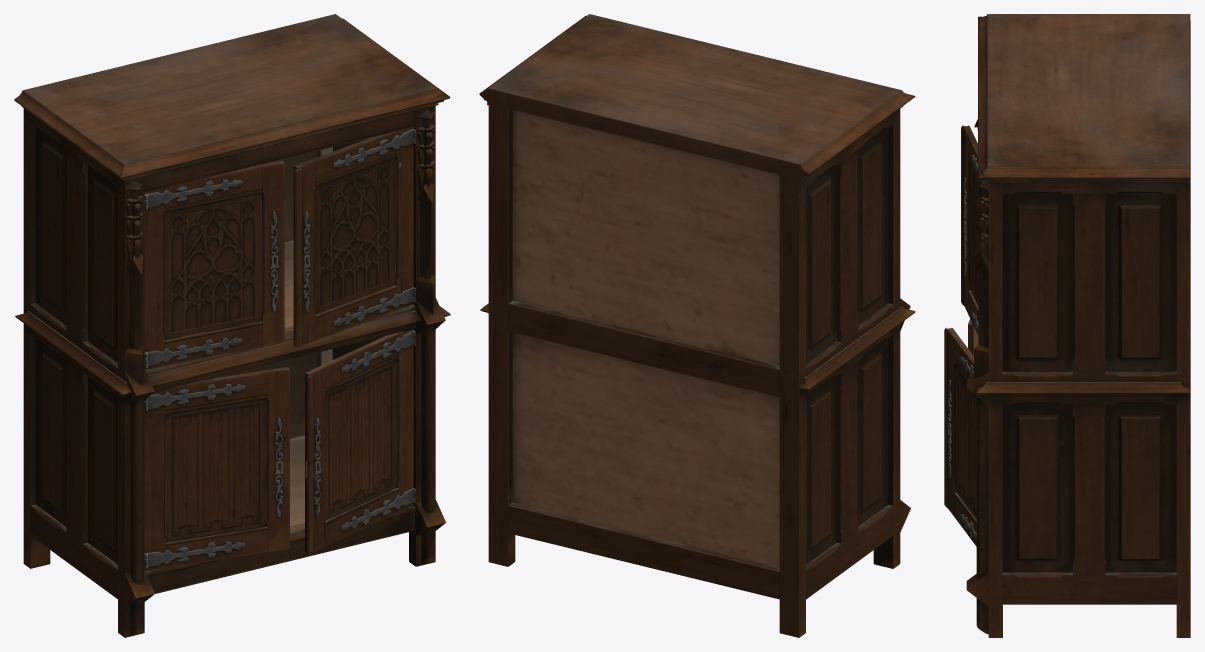
Rendered from gothic-cabinet.glb.
3 renders of one model, left to right at view 1: azimuth 30°, elevation 25°; view 2: azimuth 150°, elevation 25°; view 3: azimuth 270°, elevation 25°, orthographic.
Visible parts, largest first — view 1: GothicCabinet_01_cabinet, GothicCabinet_01_door3, GothicCabinet_01_door1, GothicCabinet_01_door2, GothicCabinet_01_door4; view 2: GothicCabinet_01_cabinet; view 3: GothicCabinet_01_cabinet, GothicCabinet_01_door4, GothicCabinet_01_door2.
Part boxes in pixels (left/top/right/bottom): GothicCabinet_01_cabinet: left=14, top=14, right=450, bottom=637; GothicCabinet_01_door3: left=144, top=367, right=289, bottom=571; GothicCabinet_01_door1: left=144, top=160, right=284, bottom=369; GothicCabinet_01_door2: left=293, top=127, right=415, bottom=347; GothicCabinet_01_door4: left=305, top=329, right=415, bottom=554; GothicCabinet_01_cabinet: left=479, top=14, right=915, bottom=637; GothicCabinet_01_cabinet: left=966, top=14, right=1190, bottom=637; GothicCabinet_01_door4: left=944, top=328, right=976, bottom=546; GothicCabinet_01_door2: left=961, top=125, right=986, bottom=335.
Bounding box in the file's own units: 1.72 × 2.36 × 1.12.
Materials: 1 (1 with a texture image).
